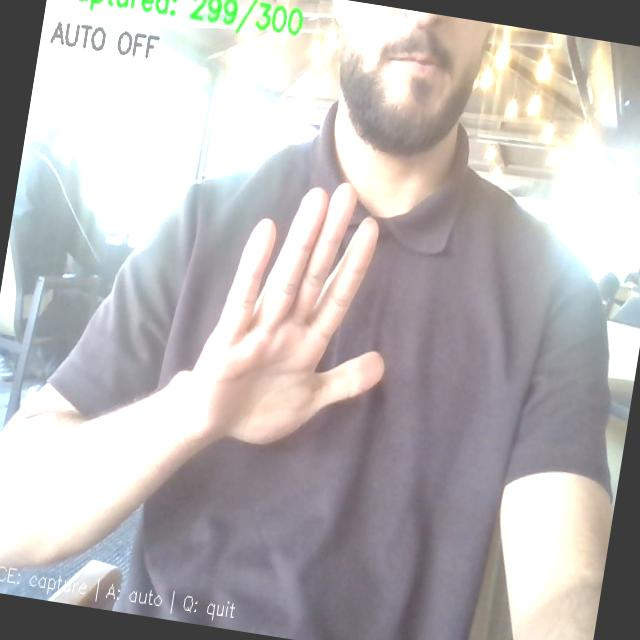Hand: (179, 185, 383, 444)
